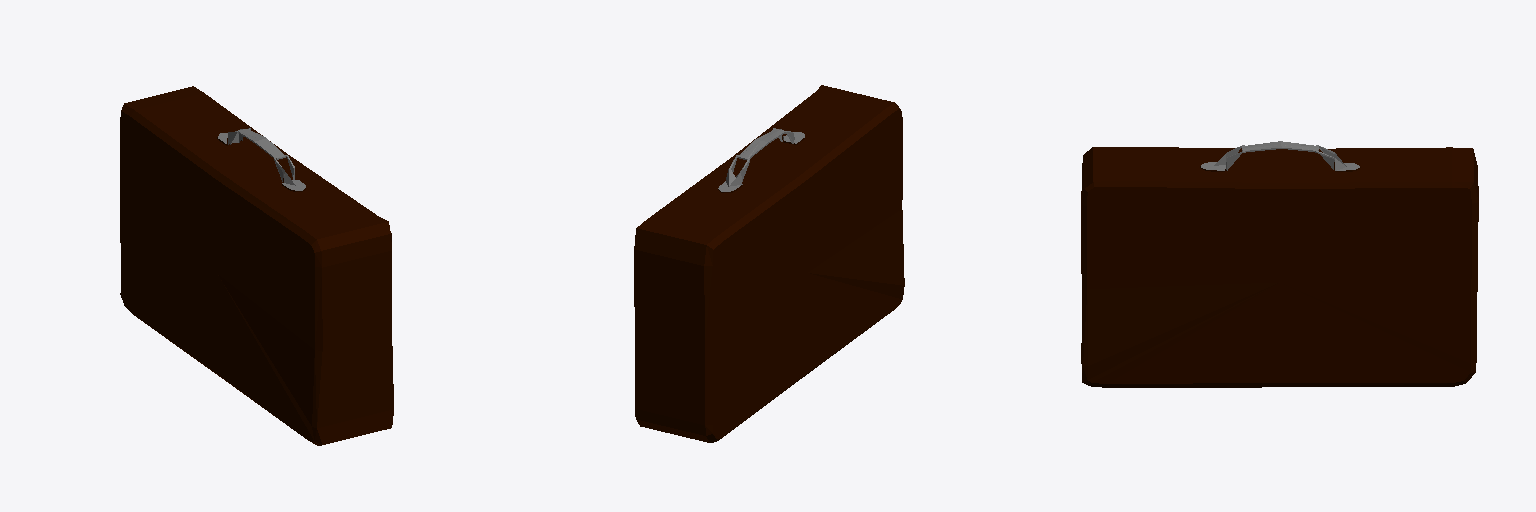
The model's file is suitcase_brown2.obj.
The picture shows the model from 3 angles: view 1: azimuth 30°, elevation 25°; view 2: azimuth 150°, elevation 25°; view 3: azimuth 270°, elevation 25°; orthographic projection.
Parts seen in each view (by area): view 1: kofer.001; view 2: kofer.001; view 3: kofer.001.
Boxes of the visible parts, <box> form: kofer.001: <box>120,86,393,445</box>; kofer.001: <box>634,85,904,442</box>; kofer.001: <box>1081,141,1478,387</box>.
Size of the model in its own units: 0.0078 by 0.0212 by 0.0334.